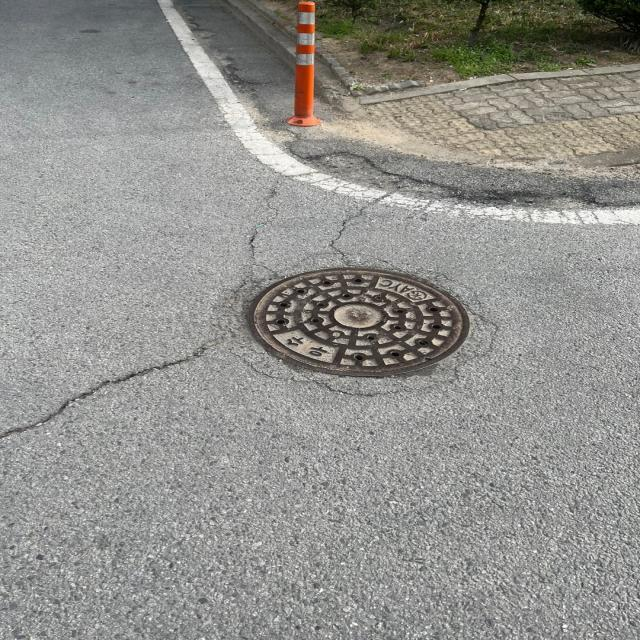Sewer Cover: (248, 256, 488, 394)
